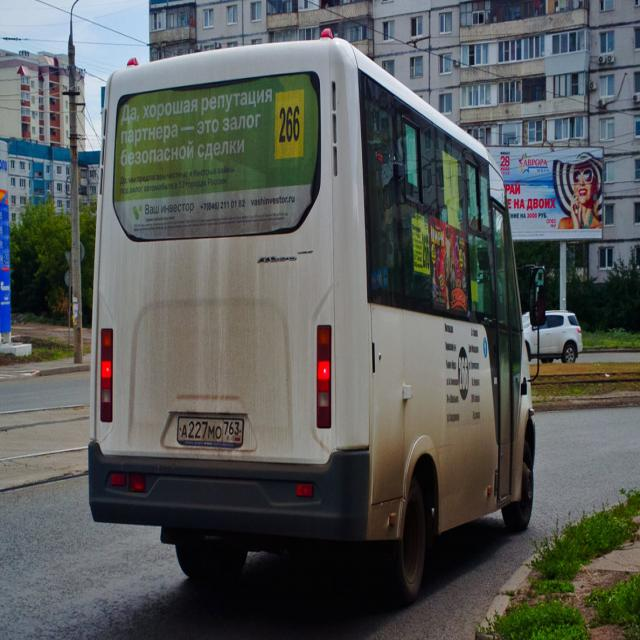number-of-bus: (276, 94, 304, 147)
